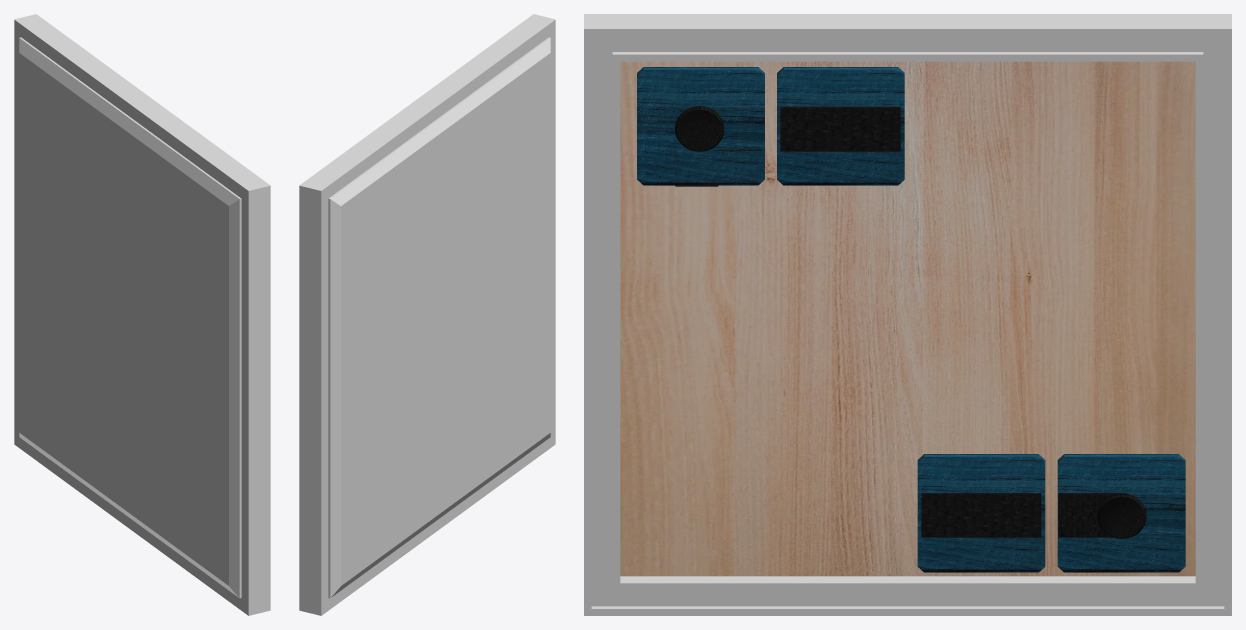
File: Painel 2.fbx
The picture shows the model from 3 angles, left to right: view 1: azimuth 30°, elevation 25°; view 2: azimuth 150°, elevation 25°; view 3: azimuth 270°, elevation 25°; orthographic projection. The views are drawn at different scales.
Visible parts, largest first — view 1: Cone.002; view 2: Cone.002; view 3: Cone.002.
Part boxes in pixels (x1=…): Cone.002: x1=14, y1=14, x2=270, y2=615; Cone.002: x1=299, y1=14, x2=555, y2=615; Cone.002: x1=584, y1=14, x2=1231, y2=615.
Size of the model in its own units: 15.61 by 215 by 215.
Materials: 12 (11 with a texture image).
